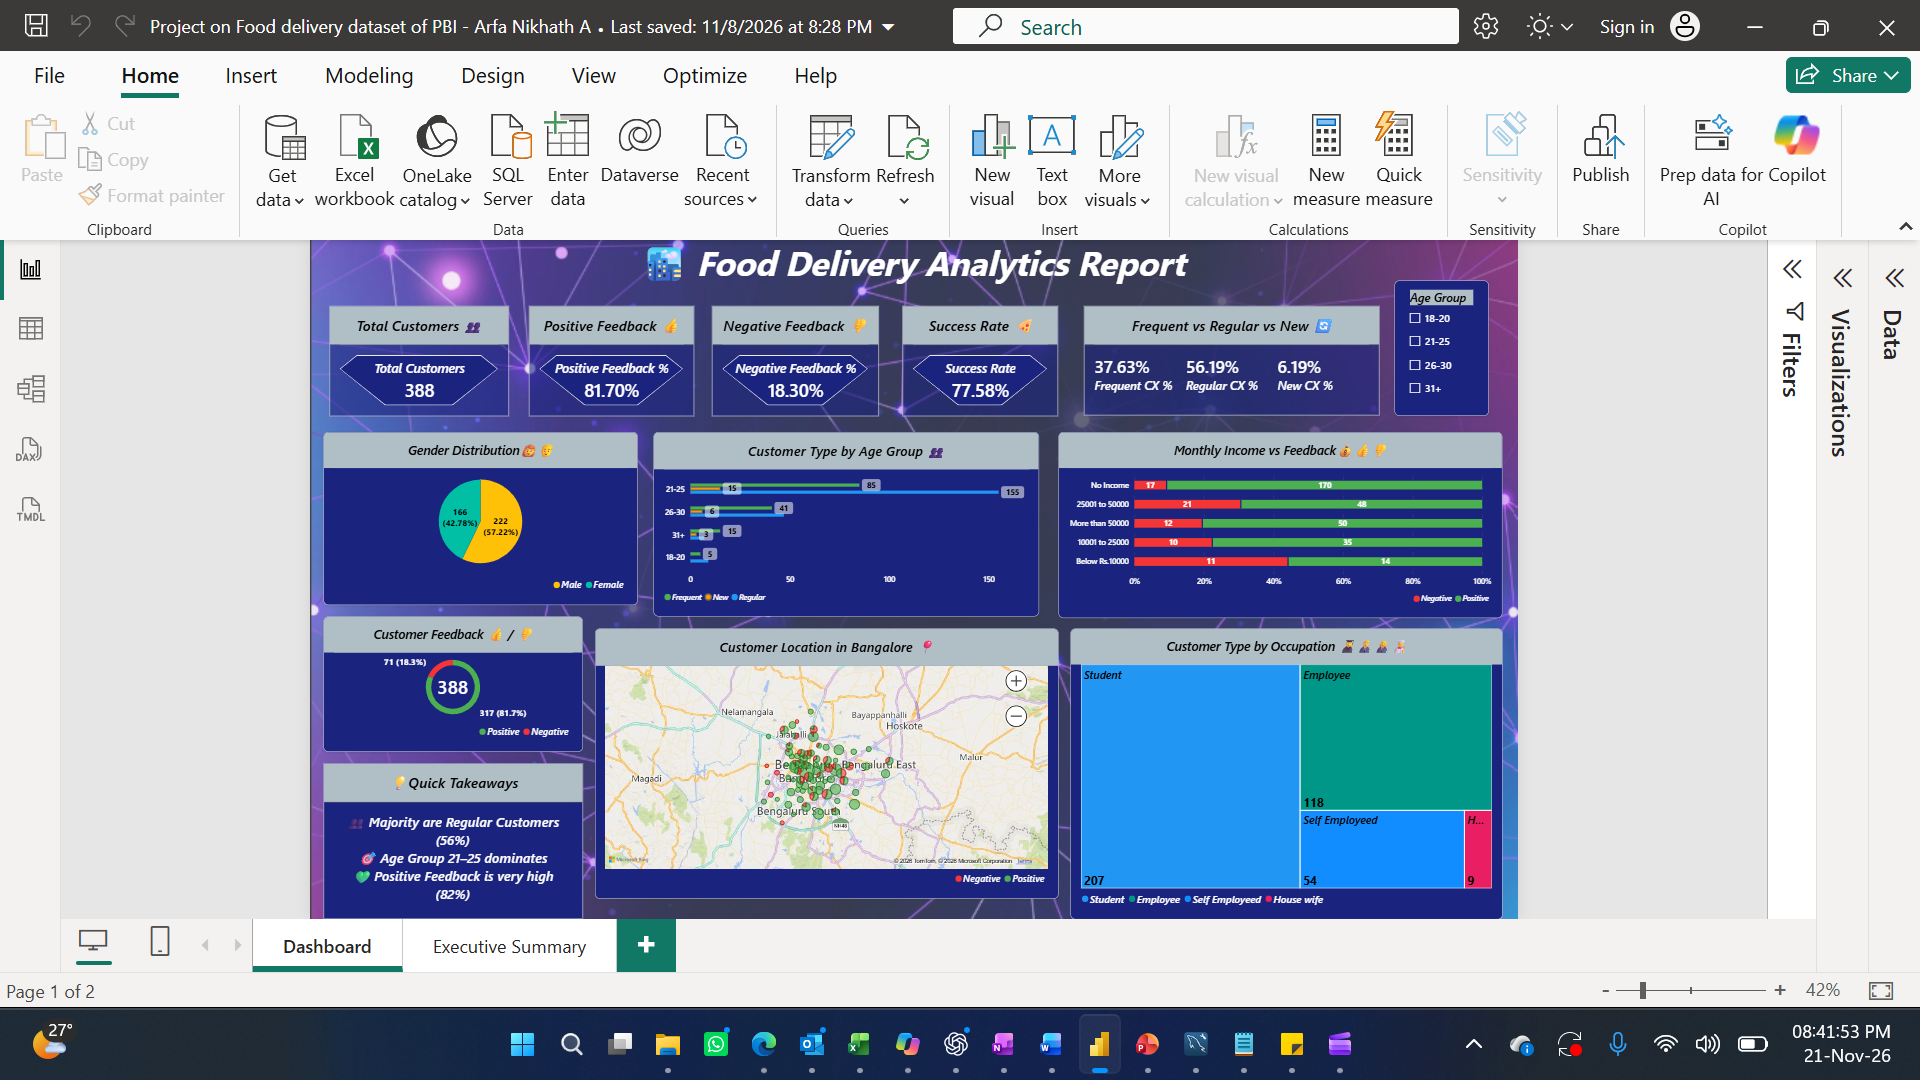

This screenshot's page, from the dashboard's own definition file:
{"tool":"powerbi","page":{"name":"Dashboard","canvas":[1920,1080],"ordinal":0},"visuals":[{"type":"pieChart","title":"Gender Distribution👩🦰👨","fields":{"Category":["online food delivery dataset.Gender"],"Y":["CountNonNull(online food delivery dataset.Gender)"]},"box":[22.5,305,500,275],"z":0},{"type":"clusteredBarChart","title":"Customer Type by Age Group 👥","fields":{"Category":["Data.Age Group"],"Series":["Data.Customer Type"],"Y":["CountNonNull(Data.Customer Type)"]},"box":[547.5,305,613.2,293.5],"z":1000},{"type":"textbox","box":[0,0,1918.3,78.7],"z":2000},{"type":"hundredPercentStackedBarChart","title":"Monthly Income vs Feedback💰👍👎","fields":{"Category":["Data.Monthly Income"],"Series":["Data.Feedback"],"Y":["CountNonNull(Data.Feedback)"]},"box":[1190.6,305.4,706.2,295.9],"z":3000},{"type":"treemap","title":"Customer Type by Occupation 🧑🎓🧑💼👩💼👨🍳","fields":{"Group":["Data.Occupation"],"Values":["CountNonNull(Data.Customer Type)"]},"box":[1210,617.5,687.5,462.5],"z":4000},{"type":"donutChart","title":"Customer Feedback 👍 / 👎","fields":{"Category":["Data.Feedback"],"Y":["CountNonNull(Data.Feedback)"]},"box":[22.5,600,412.5,215],"z":5000},{"type":"cardVisual","title":"Success Rate 🍕","fields":{"Data":["Data.Success Rate"]},"box":[942.5,105,247.5,175],"z":6000},{"type":"map","title":"Customer Location in Bangalore 📍","fields":{"Series":["Data.Feedback"],"Size":["Sum(Data.Family size)"],"X":["Data.longitude"],"Y":["Data.latitude"]},"box":[452.5,617.5,737.5,430],"z":7000},{"type":"cardVisual","title":"Total Customers 👥","fields":{"Data":["Data.Total Customers"]},"box":[30,105,285,175],"z":8000},{"type":"cardVisual","title":"Positive Feedback 👍","fields":{"Data":["Data.Positive Feedback %"]},"box":[347.5,105,262.5,175],"z":9000},{"type":"cardVisual","title":"Negative Feedback 👎","fields":{"Data":["Data.Negative Feedback %"]},"box":[640,105,265,175],"z":10000},{"type":"multiRowCard","title":"Frequent vs Regular vs New 🔄","fields":{"Values":["Data.Frequent Customers %","Data.Regular Customers %","Data.New Customers %"]},"box":[1230,105,470,174.2],"z":11000},{"type":"slicer","fields":{"Values":["Data.Age Group"]},"box":[1725,65,150,215],"z":12000},{"type":"textbox","title":"💡Quick Takeaways","box":[22.5,832.5,412.5,247.5],"z":13000}]}

Visuals, with their boxes on the page's 1920x1080 design canvas (x1, y1, x2, y2). These are canvas units, not pixel positions in the 1920x1080 screenshot, which may show the page scaled, cropped or inside an application window:
"Gender Distribution👩🦰👨" pieChart: box=[22, 305, 522, 580]
"Customer Type by Age Group 👥" clusteredBarChart: box=[548, 305, 1161, 598]
textbox: box=[0, 0, 1918, 79]
"Monthly Income vs Feedback💰👍👎" hundredPercentStackedBarChart: box=[1191, 305, 1897, 601]
"Customer Type by Occupation 🧑🎓🧑💼👩💼👨🍳" treemap: box=[1210, 618, 1898, 1080]
"Customer Feedback 👍 / 👎" donutChart: box=[22, 600, 435, 815]
"Success Rate 🍕" cardVisual: box=[942, 105, 1190, 280]
"Customer Location in Bangalore 📍" map: box=[452, 618, 1190, 1048]
"Total Customers 👥" cardVisual: box=[30, 105, 315, 280]
"Positive Feedback 👍" cardVisual: box=[348, 105, 610, 280]
"Negative Feedback 👎" cardVisual: box=[640, 105, 905, 280]
"Frequent vs Regular vs New 🔄" multiRowCard: box=[1230, 105, 1700, 279]
slicer - Data.Age Group: box=[1725, 65, 1875, 280]
"💡Quick Takeaways" textbox: box=[22, 832, 435, 1080]
